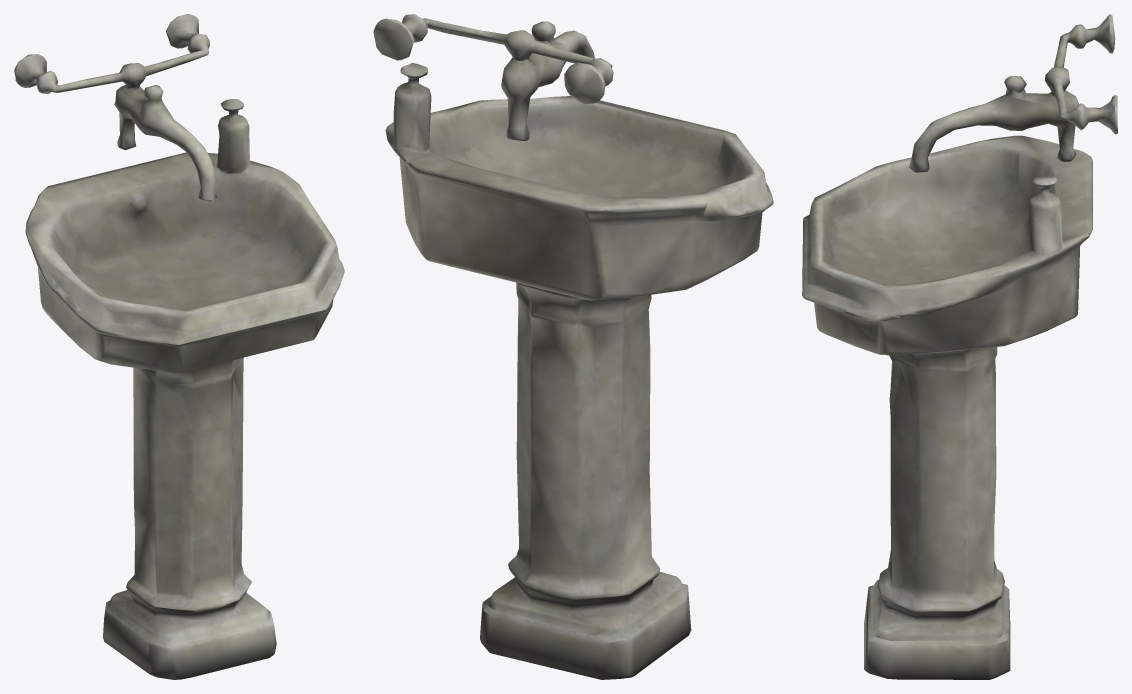
File: old-white-painted-washbasin-v002.glb
3 renders of one model, left to right at view 1: azimuth 30°, elevation 25°; view 2: azimuth 150°, elevation 25°; view 3: azimuth 270°, elevation 25°, orthographic. The views are drawn at different scales.
Parts seen in each view (by area): view 1: old-white-painted-washbasin; view 2: old-white-painted-washbasin; view 3: old-white-painted-washbasin.
Part boxes in pixels (x1,y1,x2,y2): old-white-painted-washbasin: [14, 14, 344, 679]; old-white-painted-washbasin: [373, 14, 773, 679]; old-white-painted-washbasin: [802, 14, 1117, 679].
Size of the model in its own units: 0.4724 by 0.9251 by 0.448.
1 material, 1 textured.
